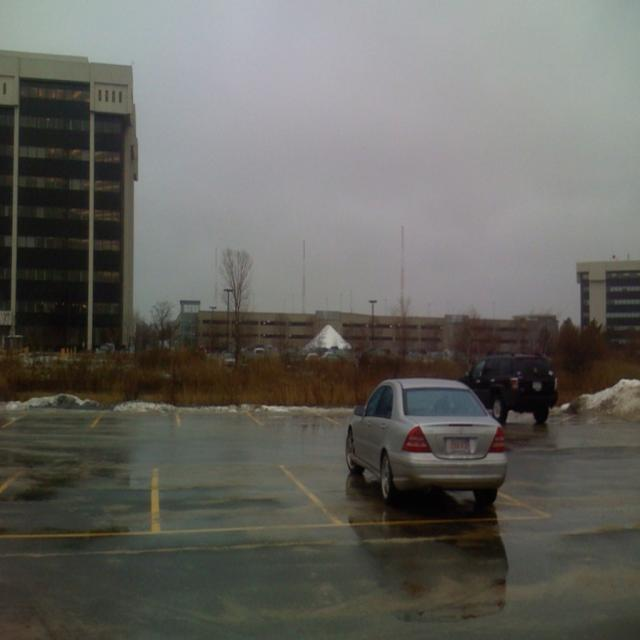car: (337, 370, 515, 518), (456, 346, 556, 422)
